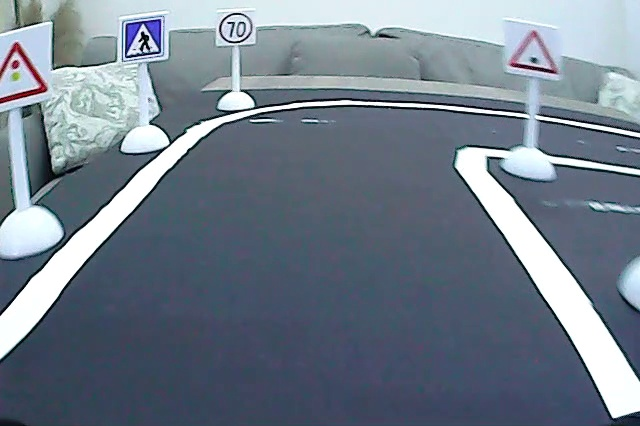green light: (503, 25, 562, 78)
pedestrian crossing: (119, 16, 167, 63)
red light: (1, 39, 51, 107)
speed limit 70: (216, 11, 256, 47)
